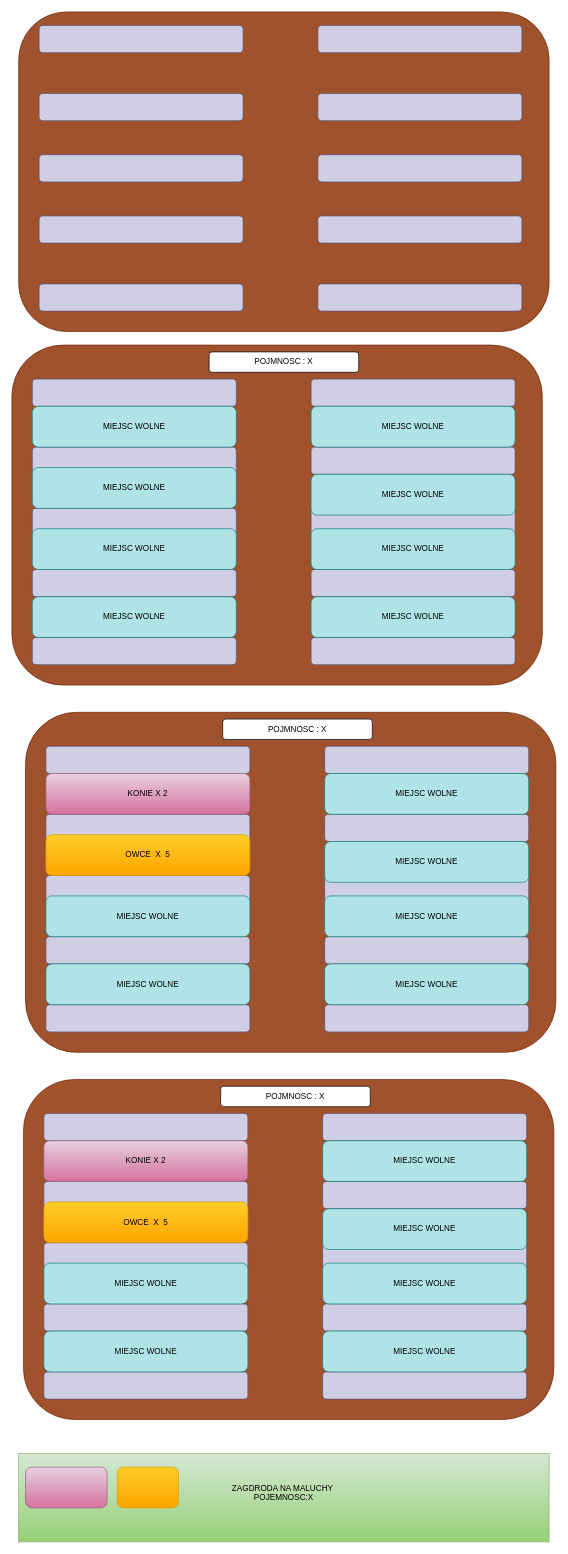
The diagram is 568 pixels wide and 1554 high, and some of its shapes have lost their labels. The box of each missing label's shape, as (x1, y1, x2, y2) in pixels:
KONIE MAX 4: (25, 1466, 107, 1508)
OWCE X MAX 15: (117, 1466, 178, 1508)
